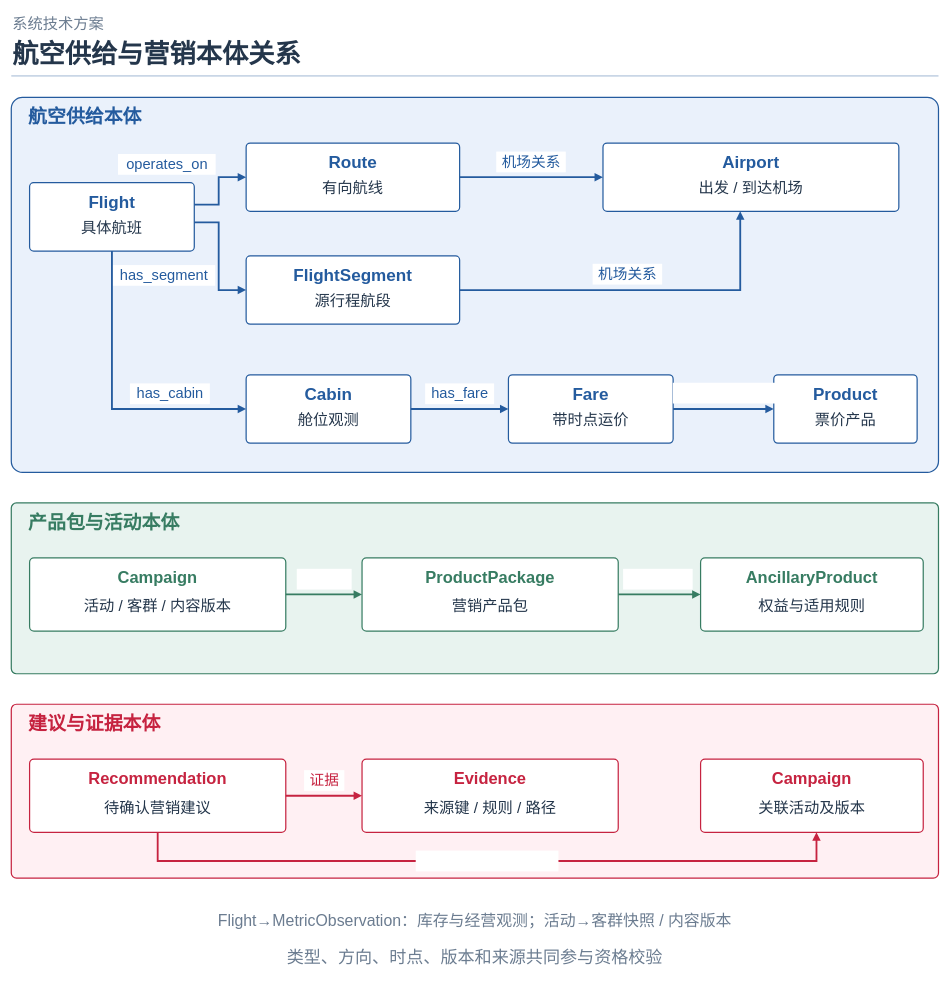
Some shapes in this 950 by 981 pixel diagram are drawn without their labels. The shapes that lost their labels are listed below. From the top down, each one's centre as x and y in pixels, then its label:
(725,392): uses_product
(323,579): 产品包
(657,579): 包含权益
(486,860): 确认保存后关联活动
